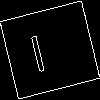I: (24, 25, 49, 73)
